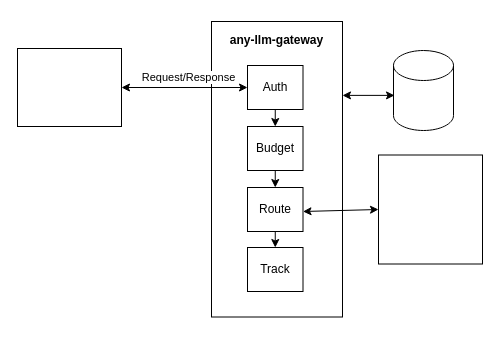
Image size: 500x339. Some labels were removed from this diagram. The shapes that lost their labels are listed below. From the top down, each one's centre as x and y in pixels, then its label:
At (69,87): "any-llm-sdk or any OpenAI compatible client".
At (423,90): "Postgres DB".
At (430,209): "LLM Providers OpenAI Anthropic Gemini Mistral Ollama etc".
